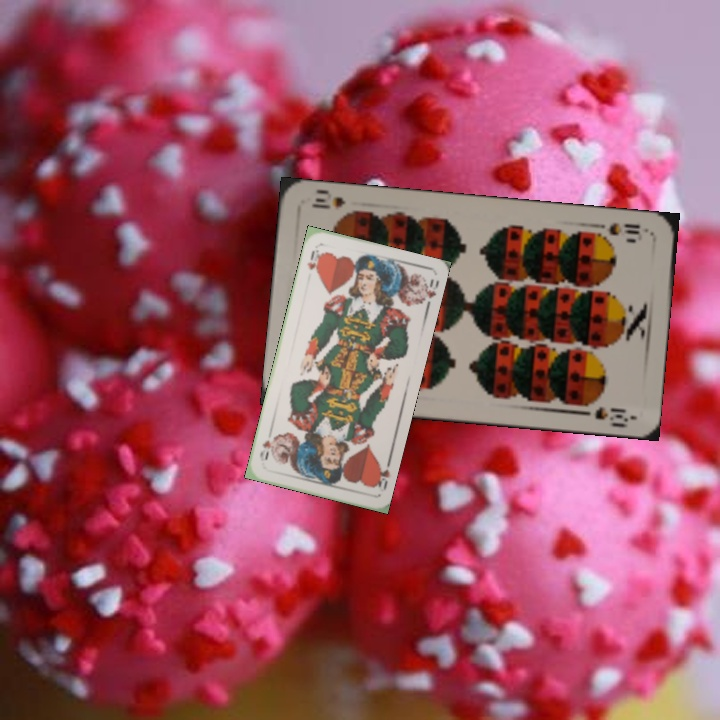HO: (369, 459, 393, 494), (303, 245, 324, 275)
S10: (604, 218, 643, 238)
